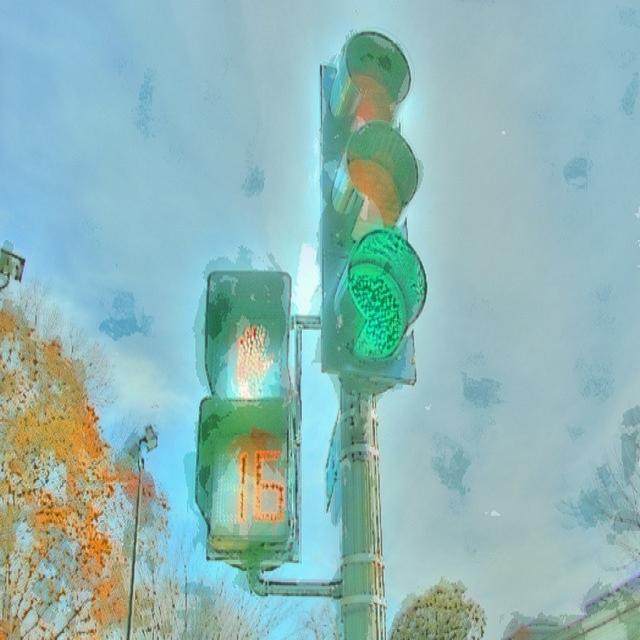pole: (331, 382, 390, 639)
